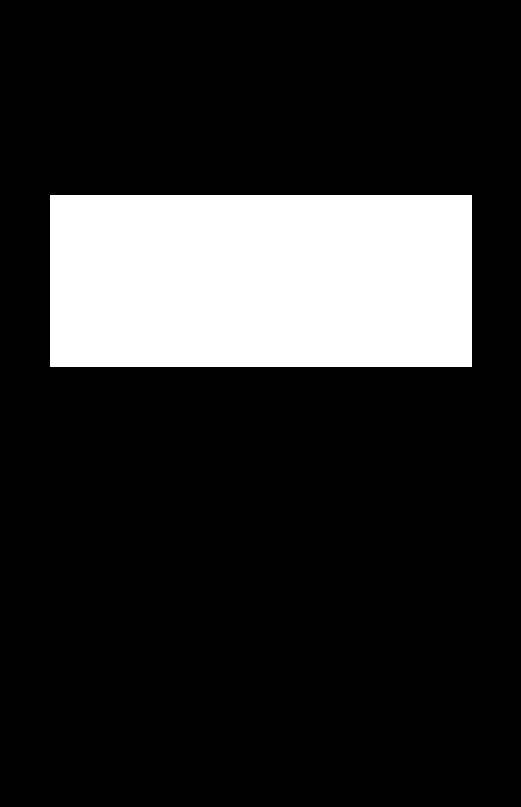table: (50, 195, 471, 366)
